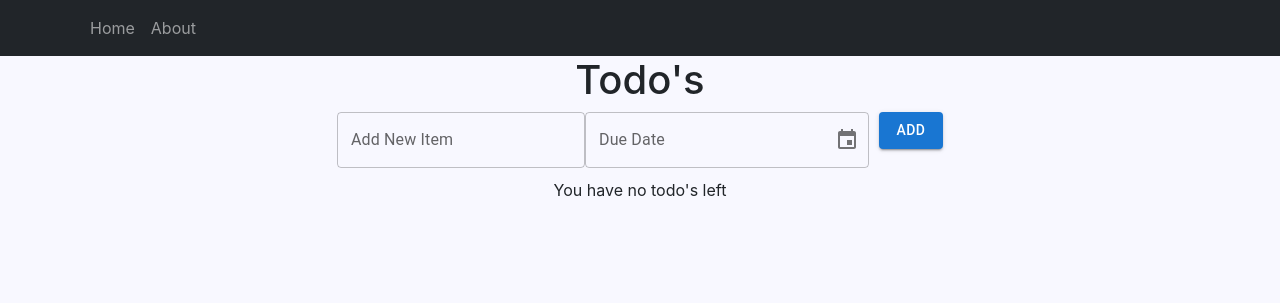
Test: test that App component renders Task
In the field labelled "Add New Item": (461, 140) [337, 112, 585, 168], type "History Test"
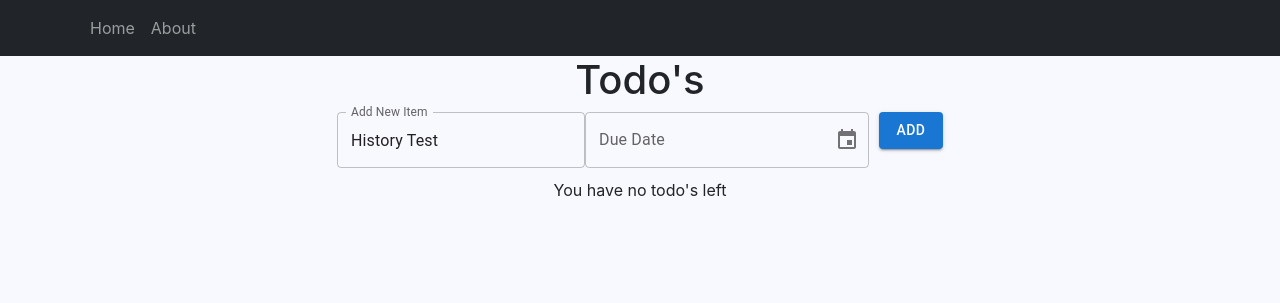
In the field with placeholder "mm/dd/yyyy": (702, 140) [585, 112, 819, 168], type "05/30/2023"
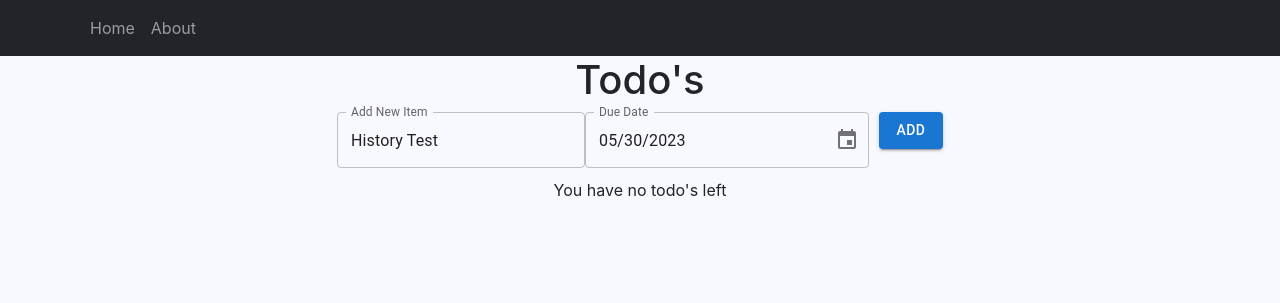
Click the button "Add": click(911, 130) [879, 112, 943, 148]
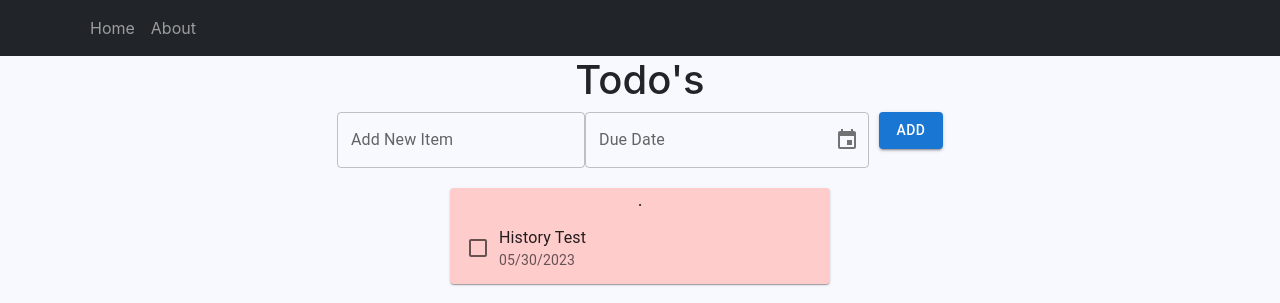
Result: the text "History Test" is shown at [499, 228, 586, 247]
Result: the text "05/30/2023" is shown at [499, 252, 575, 268]
